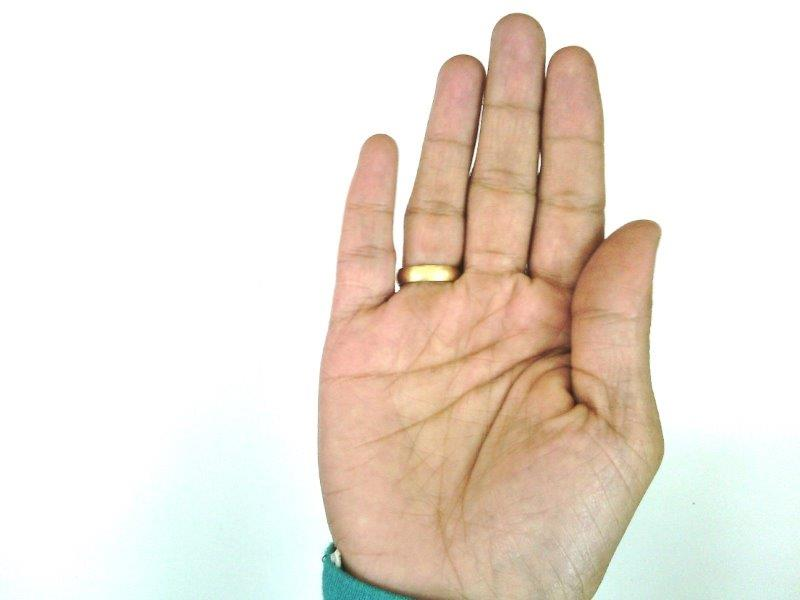hand: (321, 14, 663, 586)
